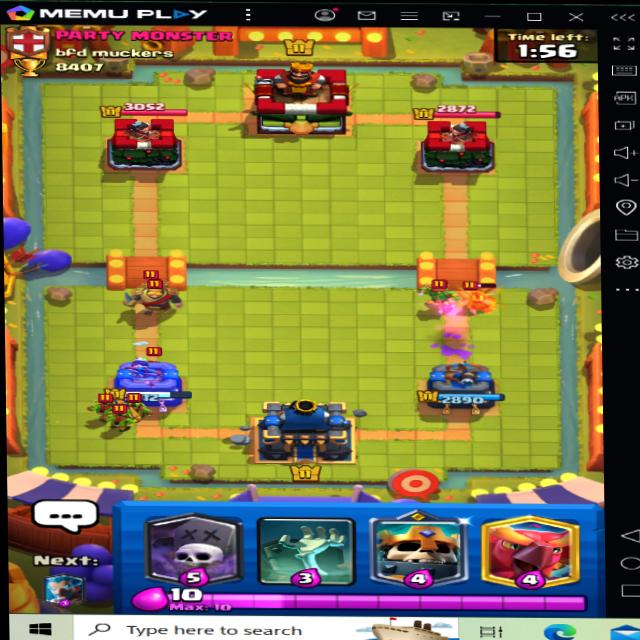goblin: (101, 408, 147, 441), (125, 396, 162, 422), (89, 392, 116, 419)
knight: (130, 279, 184, 324)
spear-goblin: (457, 283, 510, 320), (405, 276, 457, 310), (143, 268, 169, 288)
